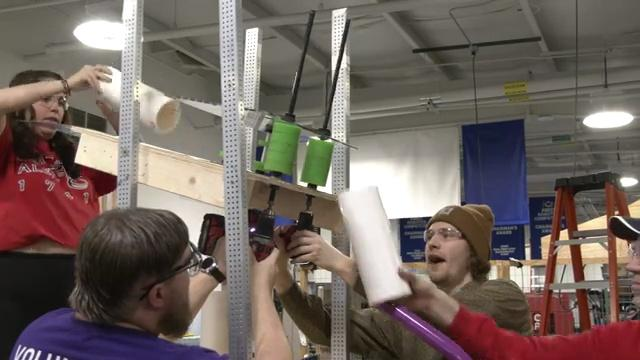CORAL: (336, 183, 414, 306), (97, 68, 182, 133)
